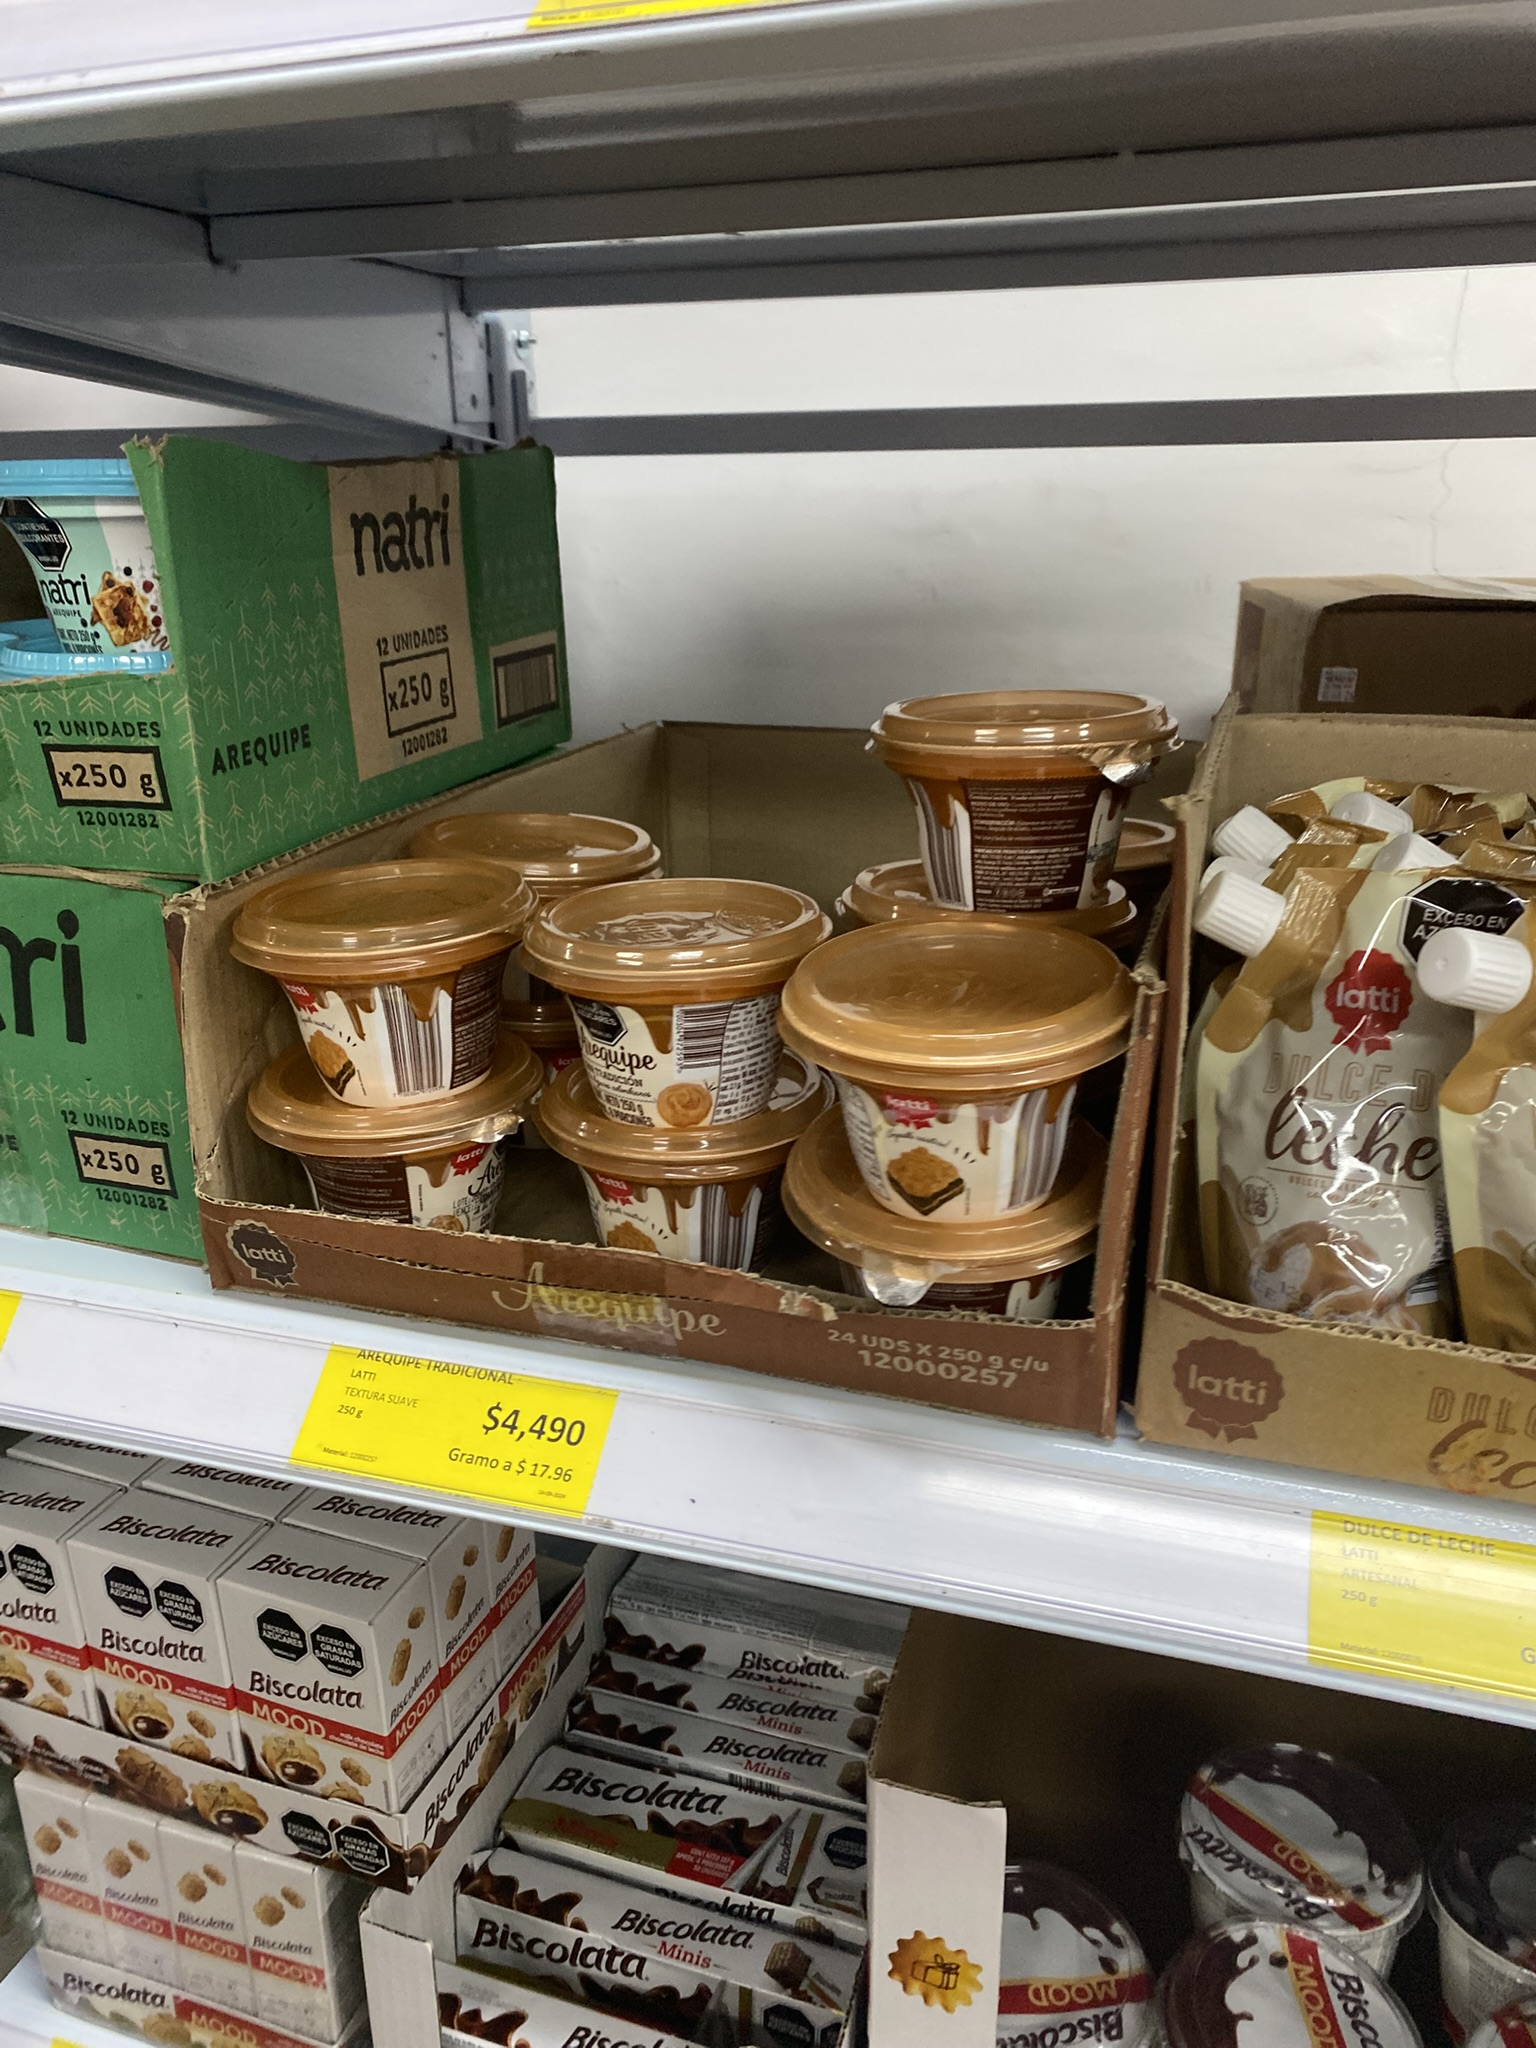Arequipe: (789, 922, 1139, 1224), (850, 664, 1167, 901), (215, 864, 521, 1092), (537, 869, 816, 1113), (524, 1113, 787, 1280)
